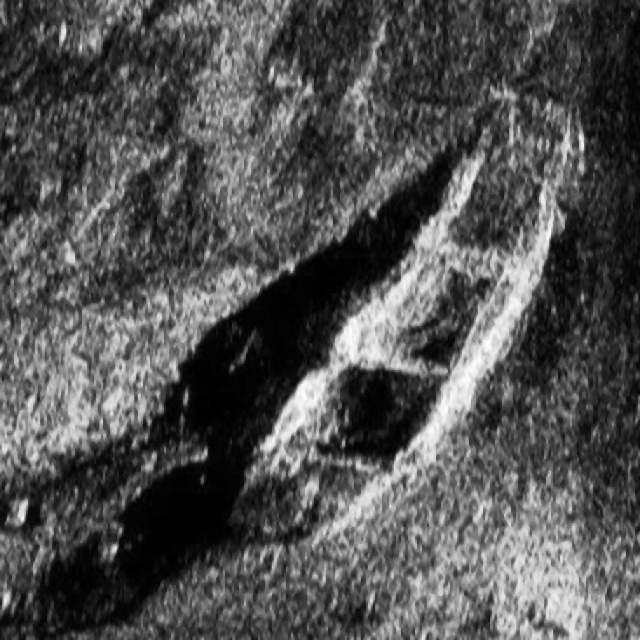Ship: (227, 80, 593, 548)
